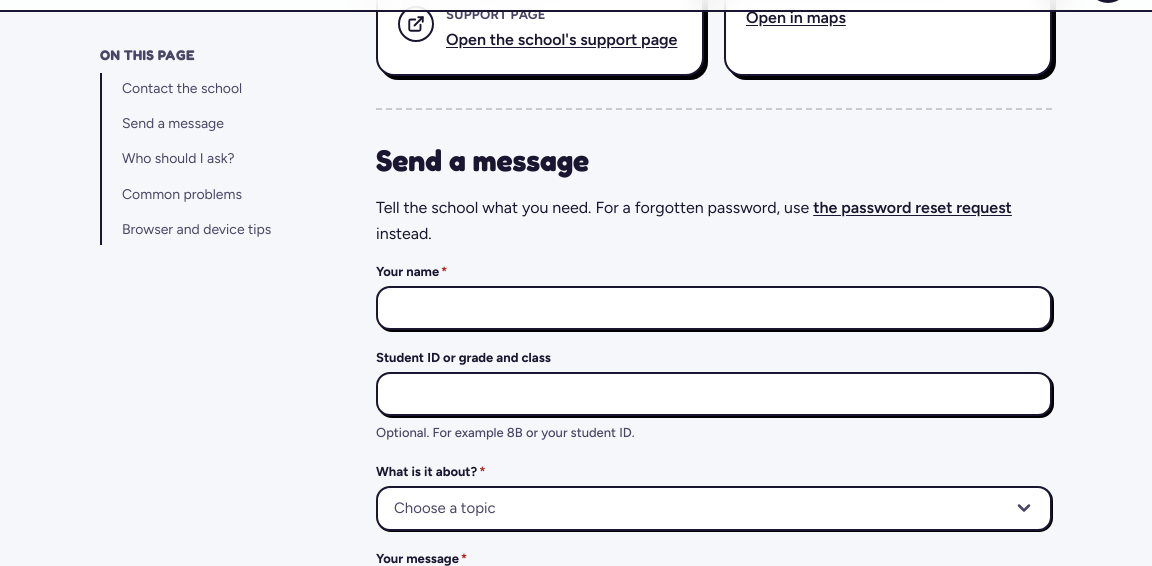
Scenario: PUB-08: HelpContactPage (SH-06) › says so, and keeps the text, when the message could not be sent
The image size is (1152, 566).
(page scrolled)
In the field labelled "Your name*": (714, 308) left=390, top=288, right=1038, bottom=328, type "Sara Ali"
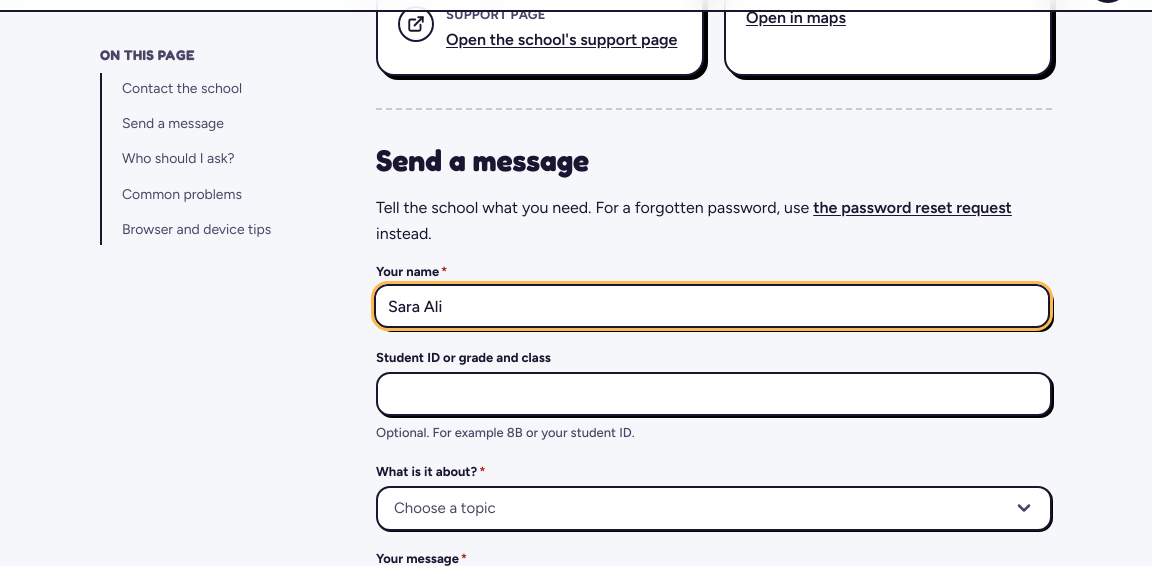
In the field labelled "Student ID or grade and class": (714, 394) left=390, top=374, right=1038, bottom=414, type "8B"
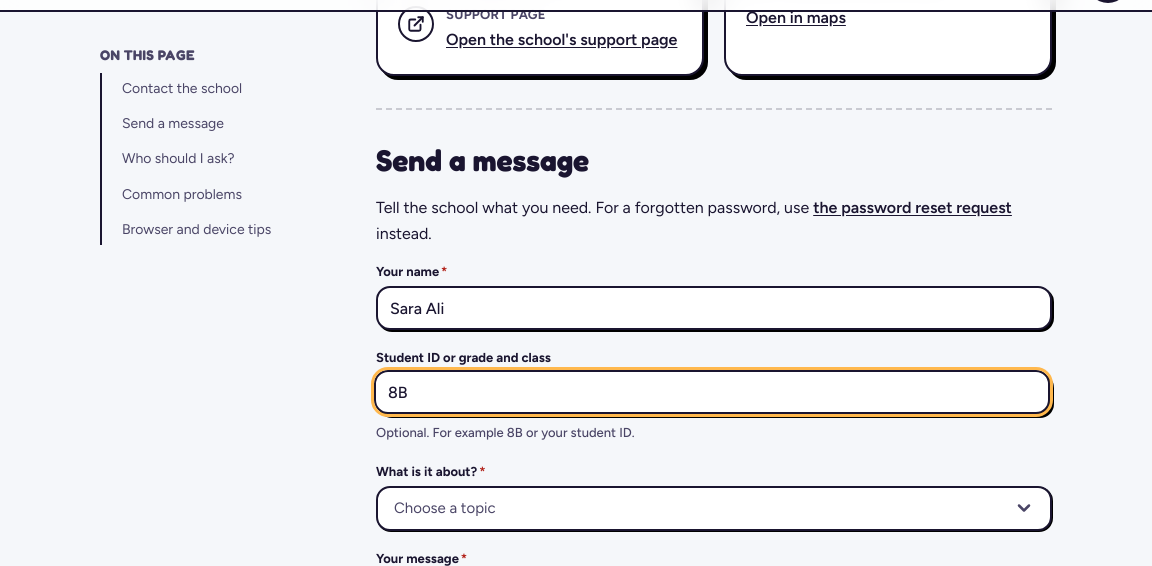
Click the dropdown named "What is it about": (445, 508) left=376, top=486, right=1052, bottom=531
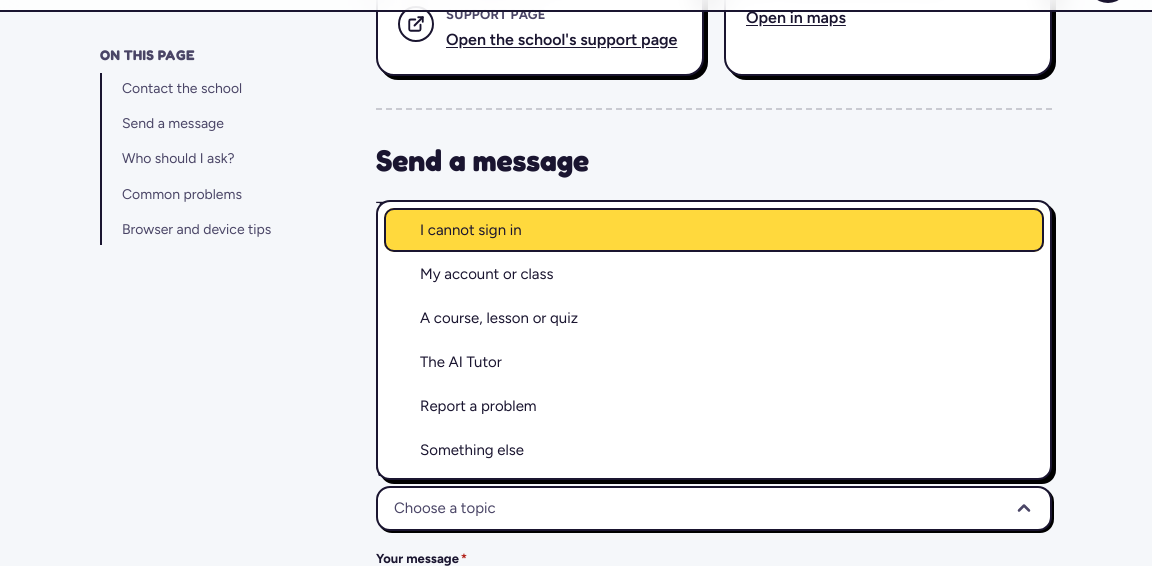
Click the option "I cannot sign in": (471, 230) left=384, top=208, right=1044, bottom=252
(page scrolled)
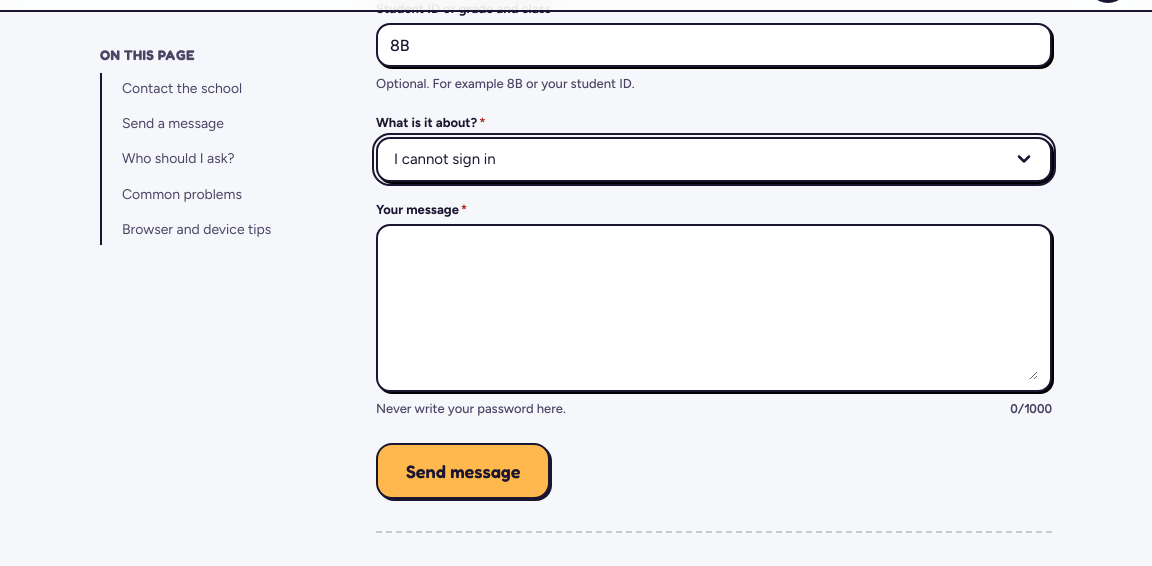
In the text box labelled "Your message*": (714, 308) left=390, top=236, right=1038, bottom=380, type "I typed my username correctly but it still fails."
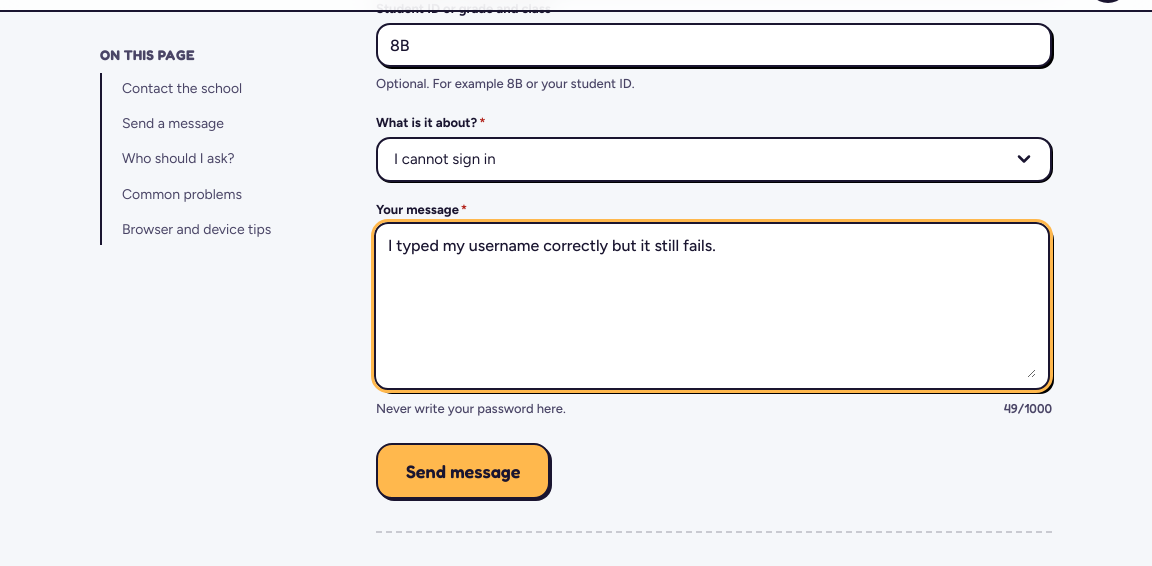
Click the button "Send message": (463, 472) left=376, top=444, right=550, bottom=500
(page scrolled)
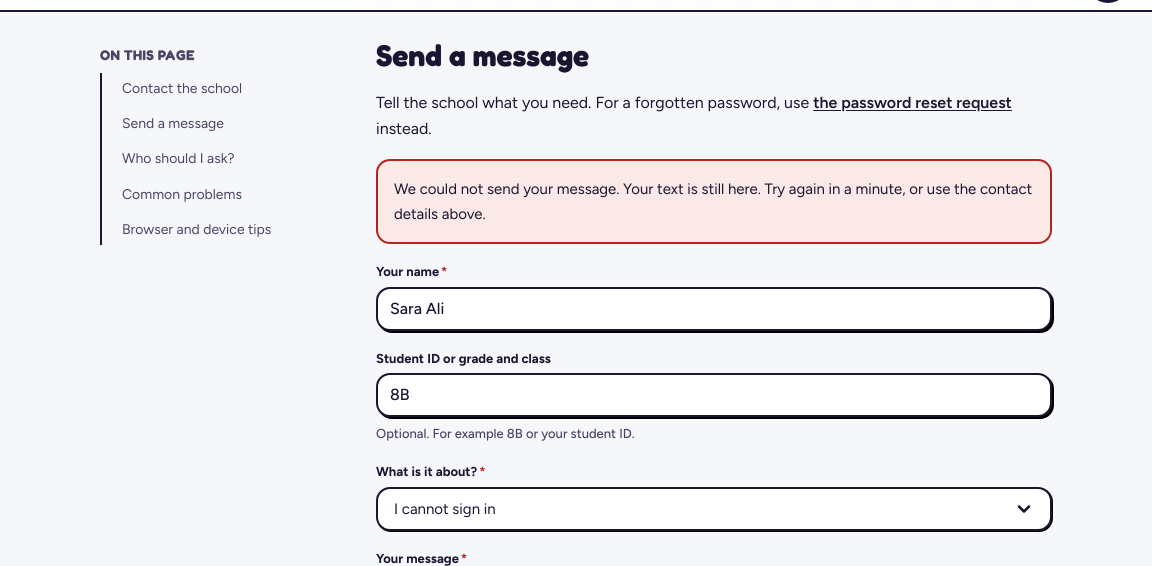
expect the message shows "could not send your message": met, box left=394, top=180, right=1032, bottom=223
